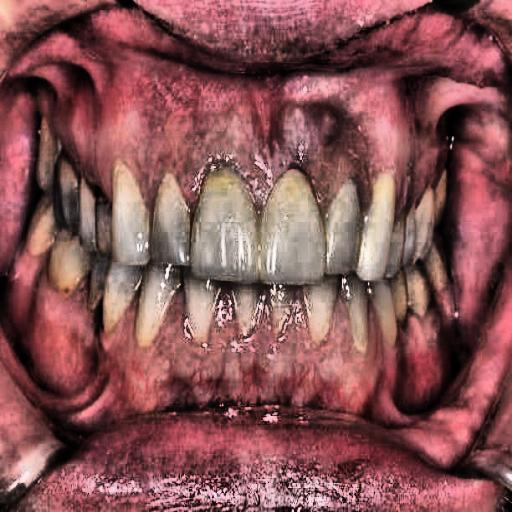Gingivitis: (59, 60, 456, 192)
